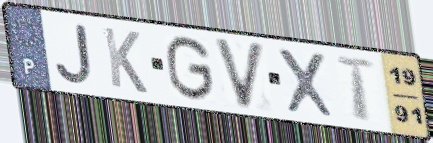G: (165, 34, 217, 104)
J: (52, 21, 95, 87)
K: (100, 24, 150, 97)
T: (334, 54, 379, 124)
V: (211, 35, 268, 112)
X: (274, 45, 338, 121)
